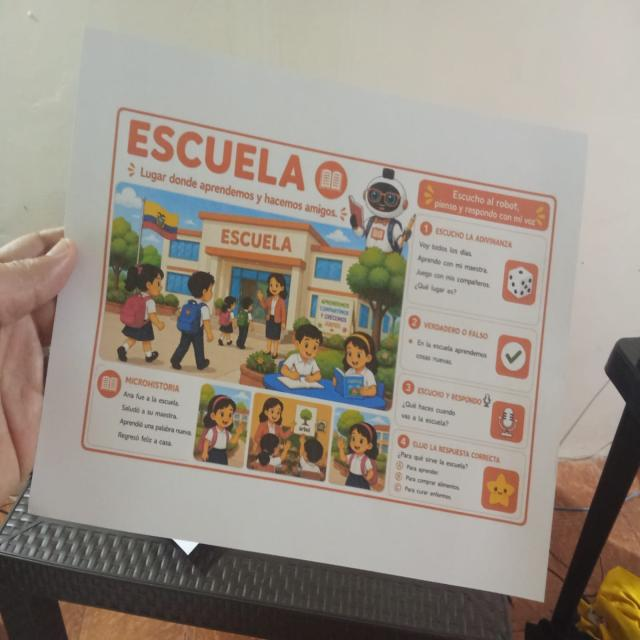escuela: (78, 102, 561, 530)
